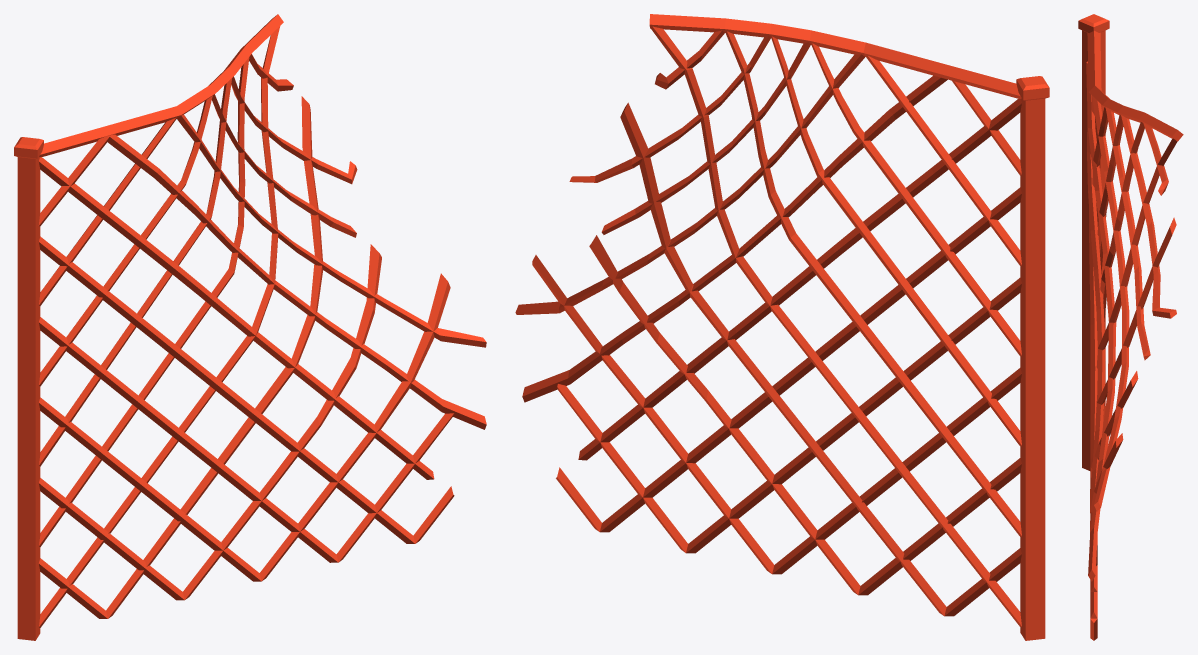
The model's file is SM_Fence_Chainlink_Broken_Low_2m_City.fbx.
The picture shows the model from 3 angles, left to right: view 1: azimuth 30°, elevation 25°; view 2: azimuth 150°, elevation 25°; view 3: azimuth 270°, elevation 25°; orthographic projection. The views are drawn at different scales.
Parts seen in each view (by area): view 1: SM_Fence_Chainlink_Broken_Low_2m_City; view 2: SM_Fence_Chainlink_Broken_Low_2m_City; view 3: SM_Fence_Chainlink_Broken_Low_2m_City.
Boxes of the visible parts, x1,y1,x2,y2 form: SM_Fence_Chainlink_Broken_Low_2m_City: (14, 14, 486, 640); SM_Fence_Chainlink_Broken_Low_2m_City: (515, 14, 1049, 640); SM_Fence_Chainlink_Broken_Low_2m_City: (1078, 14, 1183, 640).
Bounding box in the file's own units: 2.06 × 2.14 × 0.4367.
